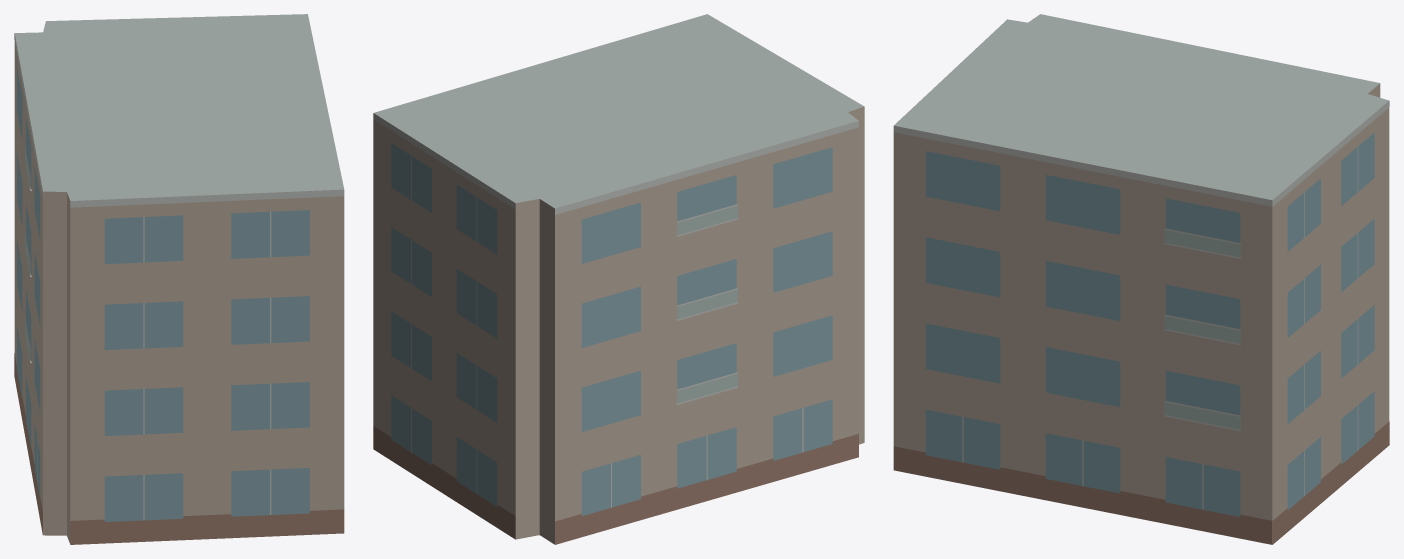
File: survey-upis-32910332.glb
The picture shows the model from 3 angles, left to right: view 1: azimuth 30°, elevation 25°; view 2: azimuth 150°, elevation 25°; view 3: azimuth 270°, elevation 25°; orthographic projection. The views are drawn at different scales.
Parts seen in each view (by area): view 1: survey-upis-32910332.tmp; view 2: survey-upis-32910332.tmp; view 3: survey-upis-32910332.tmp.
Boxes of the visible parts, box(x1,y1,x2,y2) form: survey-upis-32910332.tmp: box(14, 14, 344, 544); survey-upis-32910332.tmp: box(373, 14, 864, 544); survey-upis-32910332.tmp: box(893, 14, 1389, 544).
Bounding box in the file's own units: 14.84 × 12.8 × 16.7.
